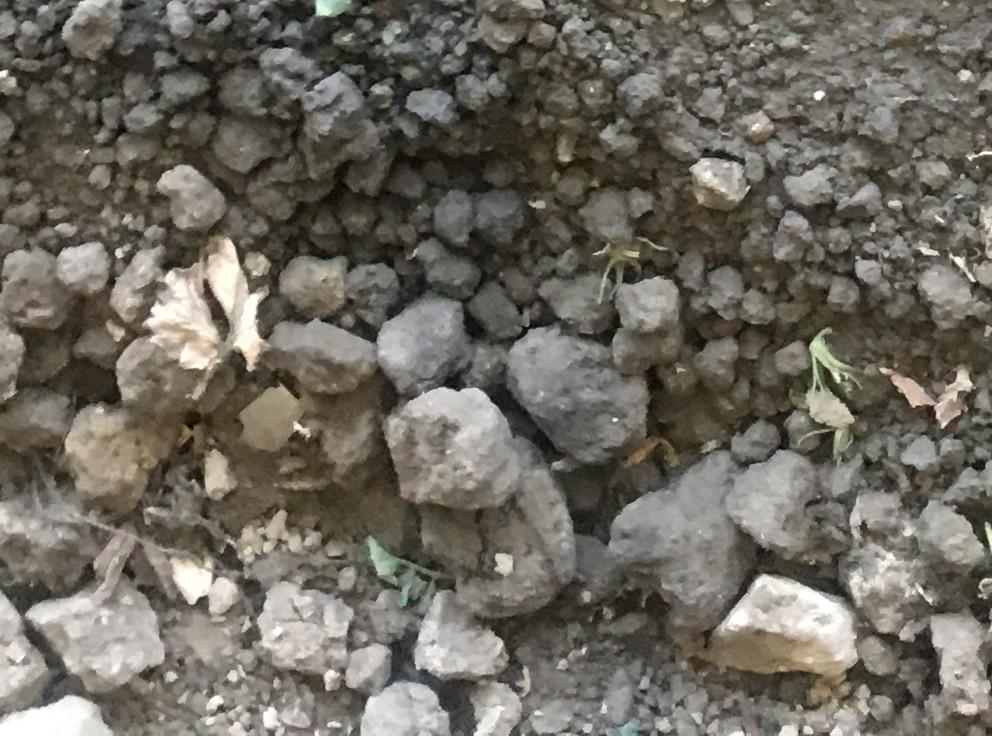block: (608, 453, 759, 632), (424, 452, 579, 619), (505, 324, 652, 465), (377, 389, 519, 512), (708, 573, 859, 683), (29, 573, 165, 695), (67, 398, 180, 520), (732, 445, 823, 570), (114, 328, 237, 418), (257, 576, 354, 683), (257, 315, 373, 399), (377, 293, 471, 396), (7, 248, 82, 330)
